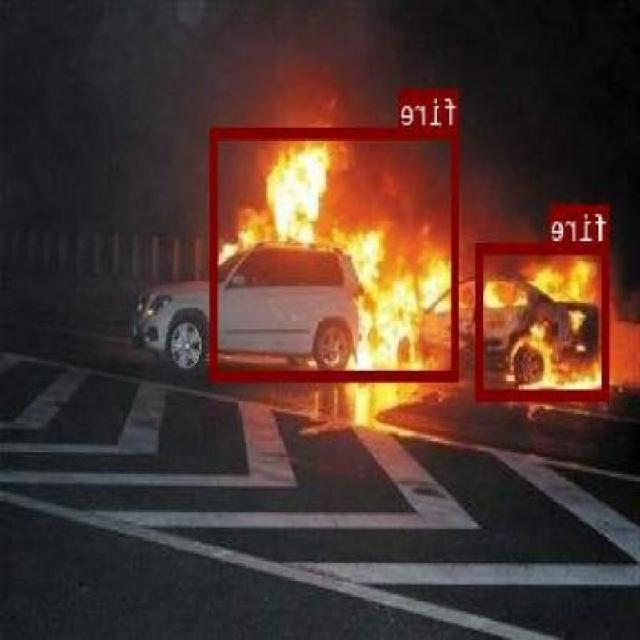Fire: (212, 126, 460, 380), (477, 242, 611, 398)
